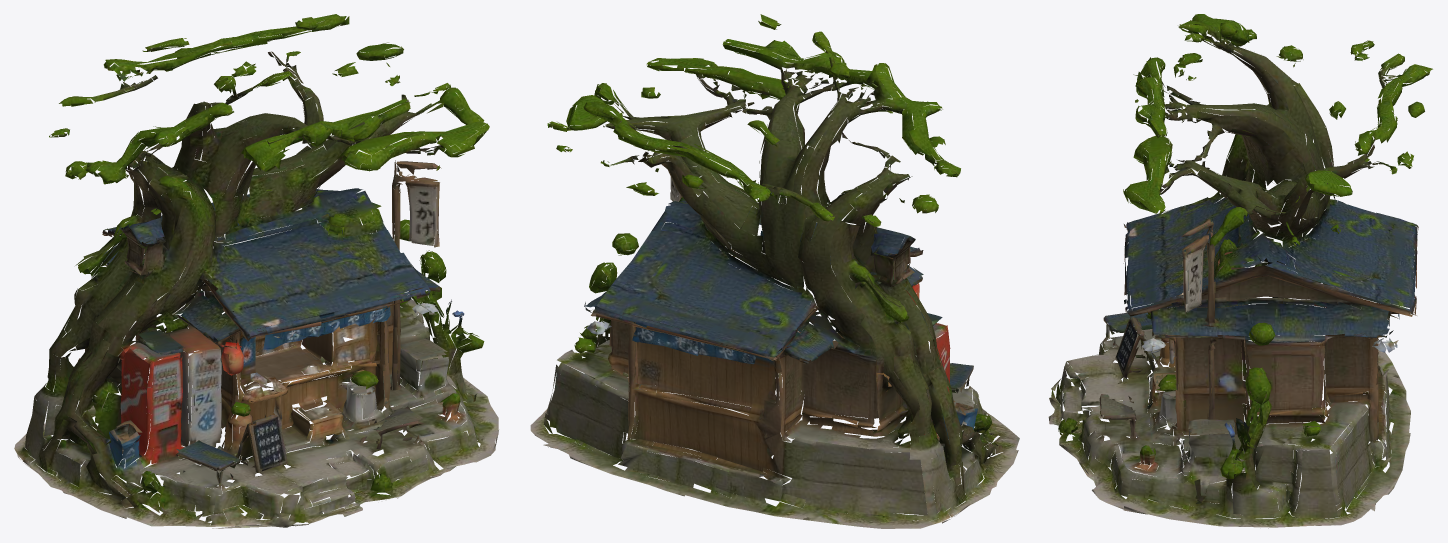
The model's file is building16.glb.
3 renders of one model, left to right at view 1: azimuth 30°, elevation 25°; view 2: azimuth 150°, elevation 25°; view 3: azimuth 270°, elevation 25°, orthographic.
Visible parts, largest first — view 1: tripo_node_d1b15c60; view 2: tripo_node_d1b15c60; view 3: tripo_node_d1b15c60.
Boxes of the visible parts, box(x1,y1,x2,y2) form: tripo_node_d1b15c60: box(14, 14, 498, 528); tripo_node_d1b15c60: box(530, 14, 1019, 528); tripo_node_d1b15c60: box(1048, 14, 1432, 528).
Size of the model in its own units: 99.28 by 87.78 by 78.65.
1 material, 1 textured.
